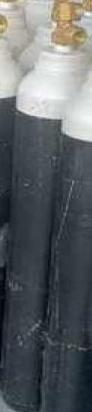cylinder: (0, 1, 92, 412)
